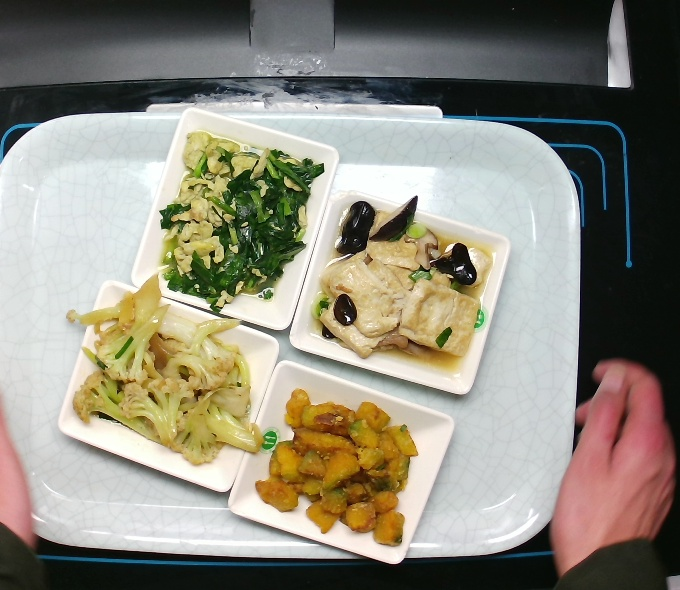wcq-DanHuangNanGua: (251, 389, 414, 553)
wcq-JiaChangDouFu: (315, 190, 491, 373)
wcq-JiuCaiJiDan: (149, 130, 331, 306)
wcq-QiuCai: (64, 277, 265, 467)
